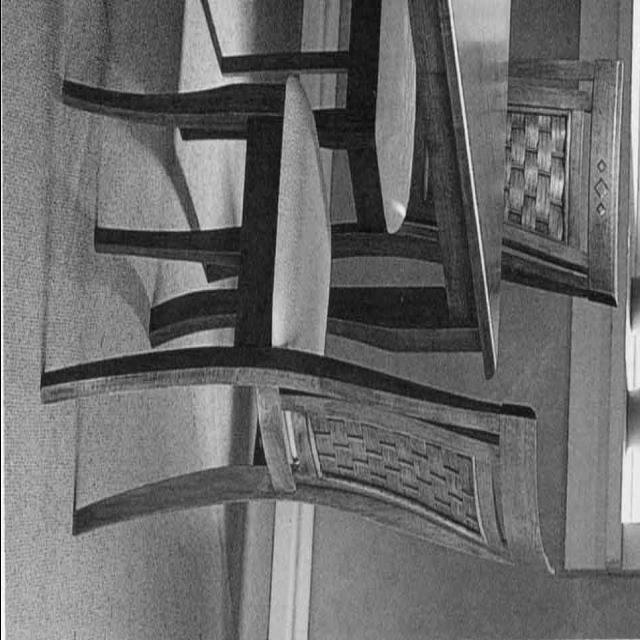chair: (41, 72, 554, 578), (205, 0, 619, 303)
